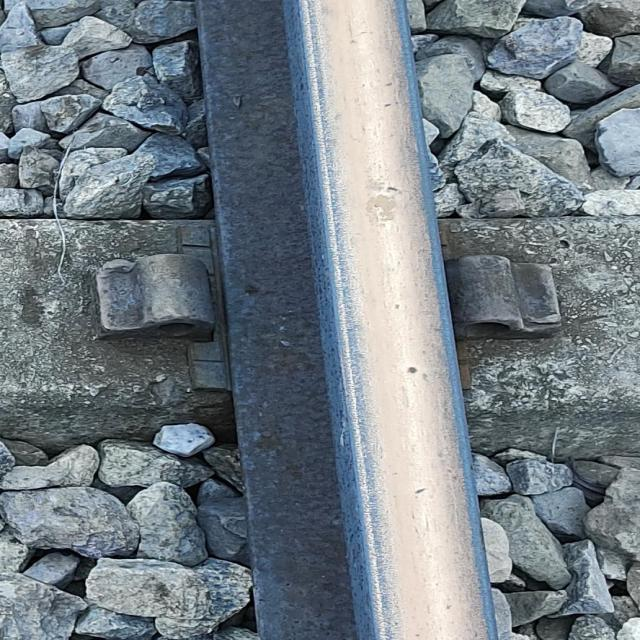Missing Fastener: (434, 249, 606, 372), (72, 254, 240, 352)
